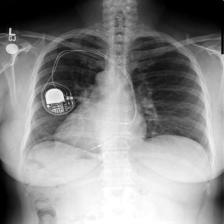normal: (17, 27, 219, 167)
